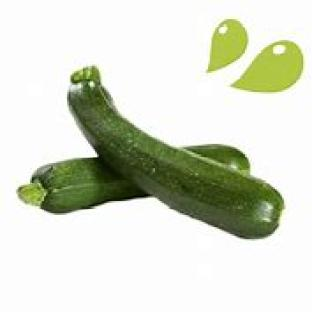Zucchini: (69, 68, 283, 239), (18, 158, 148, 213)
